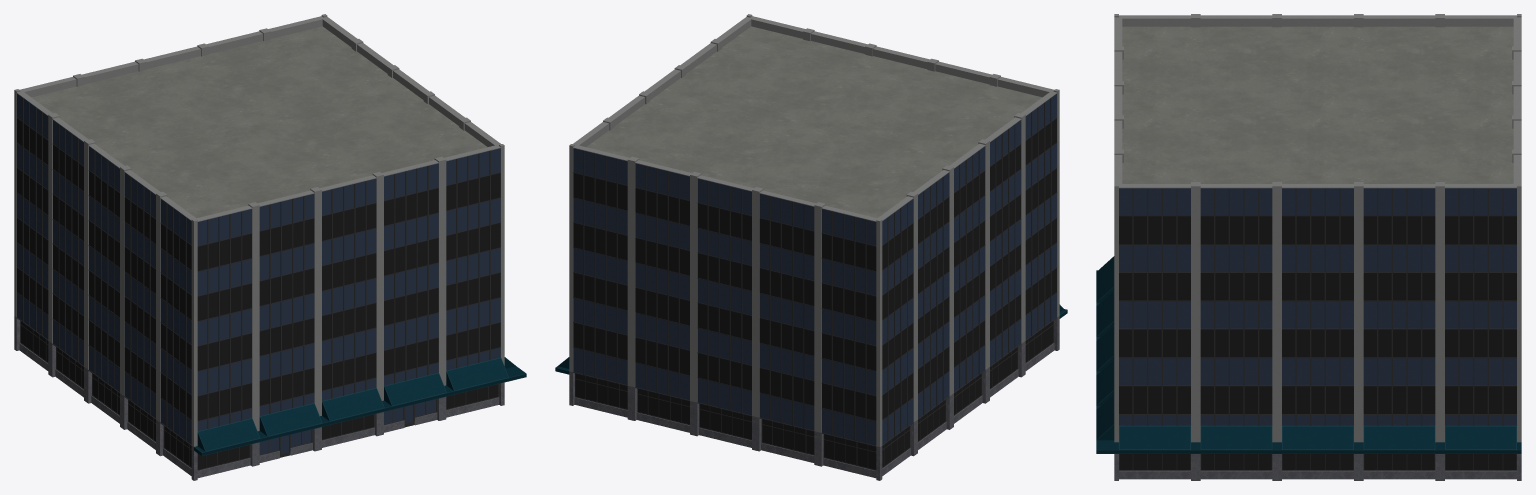
The picture shows the model from 3 angles, left to right: view 1: azimuth 30°, elevation 25°; view 2: azimuth 150°, elevation 25°; view 3: azimuth 270°, elevation 25°; orthographic projection. The views are drawn at different scales.
Visible parts, largest first — view 1: Building_511_Square_BlueBrown_8; view 2: Building_511_Square_BlueBrown_8; view 3: Building_511_Square_BlueBrown_8.
Boxes of the visible parts, <box> form: Building_511_Square_BlueBrown_8: <box>14,14,526,480</box>; Building_511_Square_BlueBrown_8: <box>555,14,1067,480</box>; Building_511_Square_BlueBrown_8: <box>1096,14,1521,480</box>.
Bounding box in the file's own units: 28.72 × 21.95 × 28.72.
4 materials, 4 textured.
